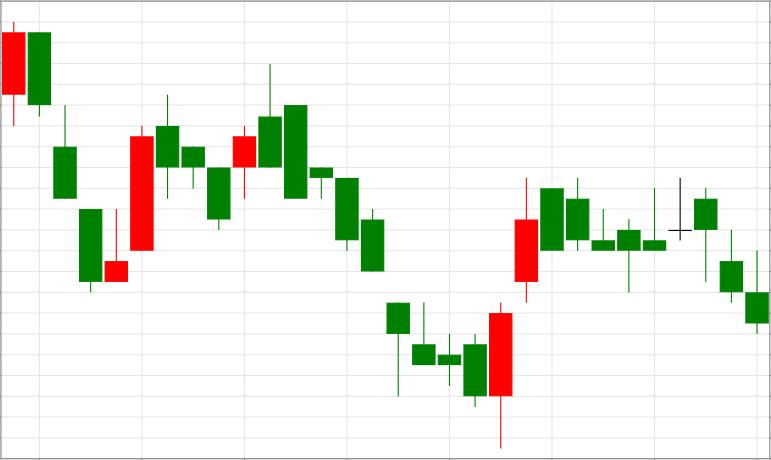bullish_engulfing_rise: (259, 64, 513, 450)
